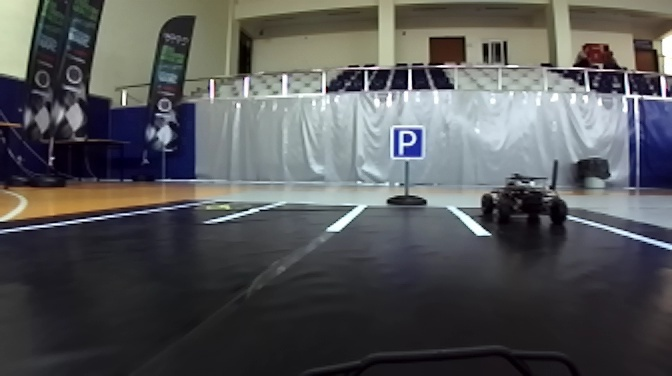park: (389, 123, 428, 160)
